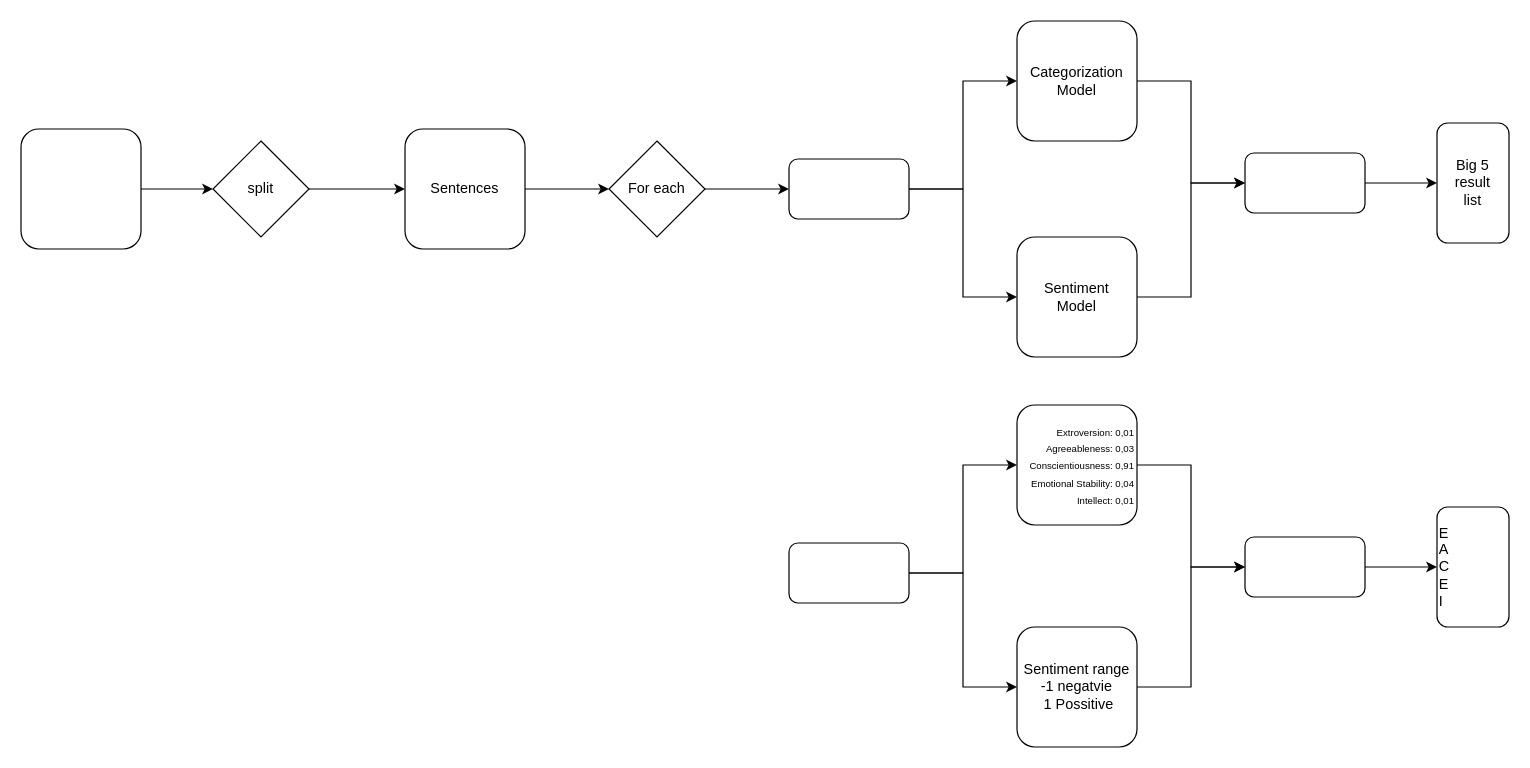
The diagram is 1530 pixels wide and 768 high, and some of its shapes have lost their labels. Here are the shapes that lost their labels. From the top down, the box of each, then its label:
(20, 128, 141, 249): Corpus
(788, 158, 909, 219): Sentence
(1244, 152, 1365, 213): Result
(788, 542, 909, 603): "I don't like homework"
(1244, 536, 1365, 597): {C: SoftMaxProb * Sentiment Score}
